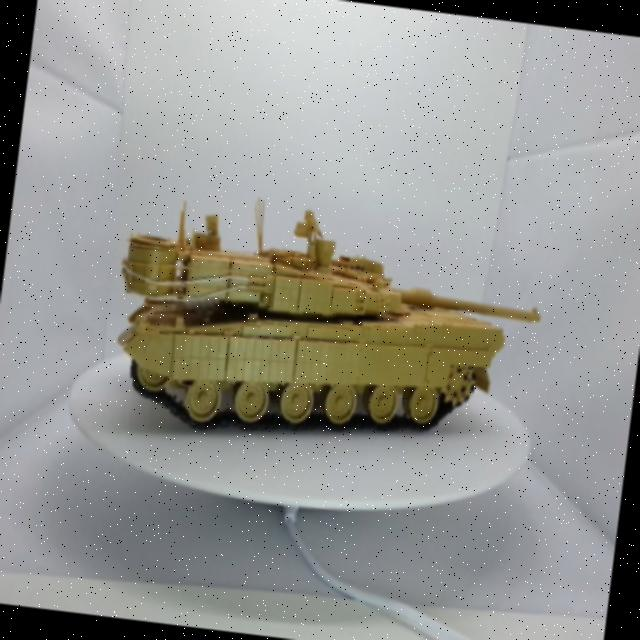korea tank: (82, 165, 582, 482)
